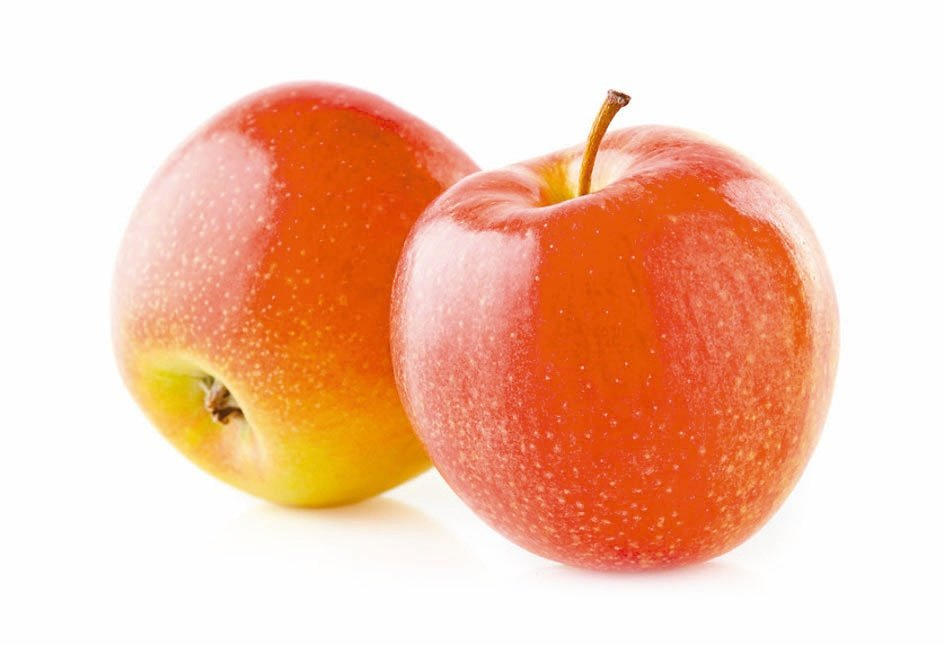apple: (394, 121, 852, 582), (108, 74, 513, 517)
